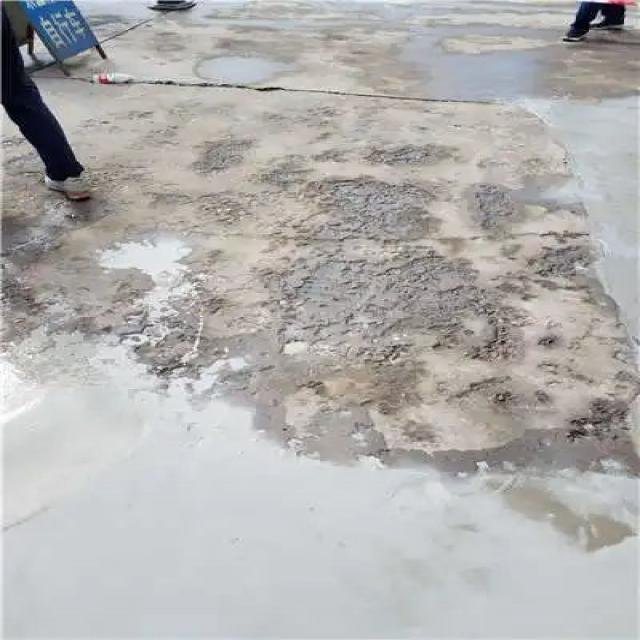pothole: (282, 248, 530, 380), (314, 174, 444, 238), (479, 187, 527, 250)
